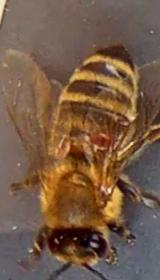varroa_mite: (78, 123, 122, 155)
